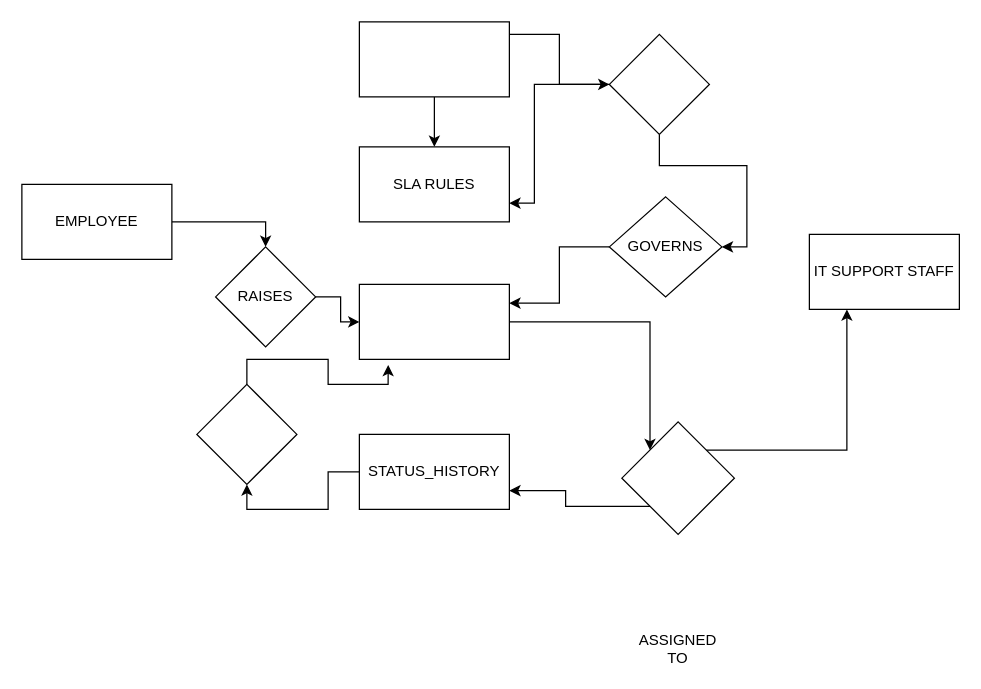
Some shapes in this 981 by 689 pixel diagram are drawn without their labels. The shapes that lost their labels are listed below. From the top down, each one's centre as x and y in pixels, then its label:
At pixel 433 59: "SYSTEM ADMINISTRATOR".
At pixel 658 83: "DEFINES".
At pixel 433 321: "TICKETS".
At pixel 246 433: "HAS CURRENT STATUS".
